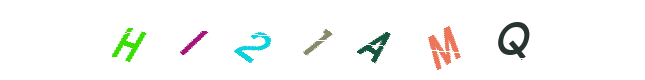1: (280, 0, 360, 80)
2: (213, 0, 293, 80)
A: (312, 0, 392, 80)
H: (89, 0, 169, 80)
I: (153, 0, 233, 80)
M: (397, 0, 477, 80)
Q: (419, 0, 499, 80)
